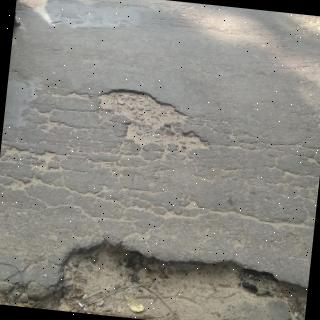pothole: (0, 241, 306, 320), (99, 90, 206, 146)
